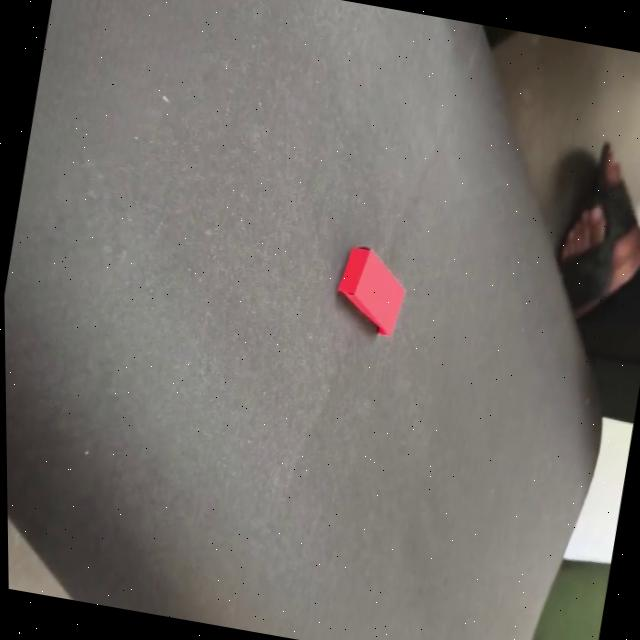red block: (329, 240, 414, 338)
